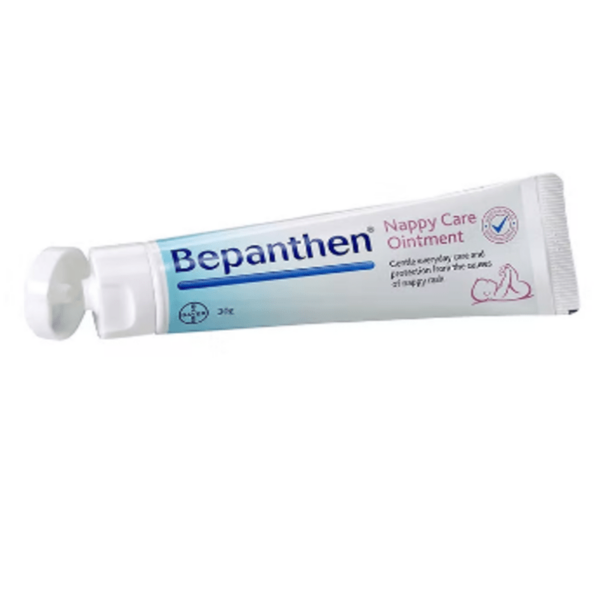Medicine: (5, 170, 585, 343)
